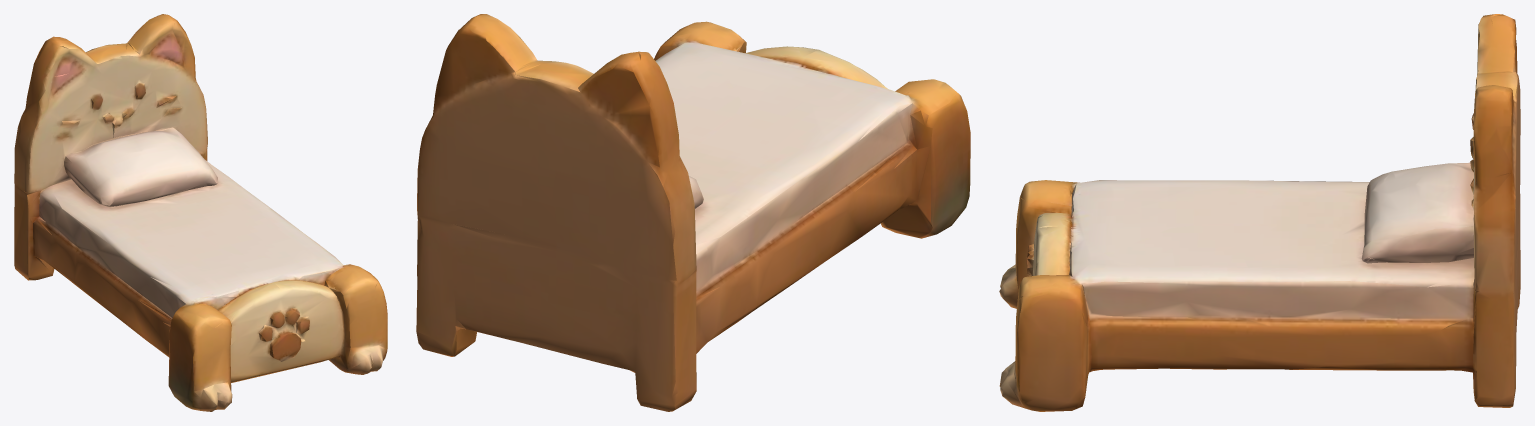
The model's file is bed16.glb.
The picture shows the model from 3 angles, left to right: view 1: azimuth 30°, elevation 25°; view 2: azimuth 150°, elevation 25°; view 3: azimuth 270°, elevation 25°; orthographic projection. The views are drawn at different scales.
Size of the model in its own units: 0.1713 by 0.1947 by 0.2998.
1 material, 1 textured.
